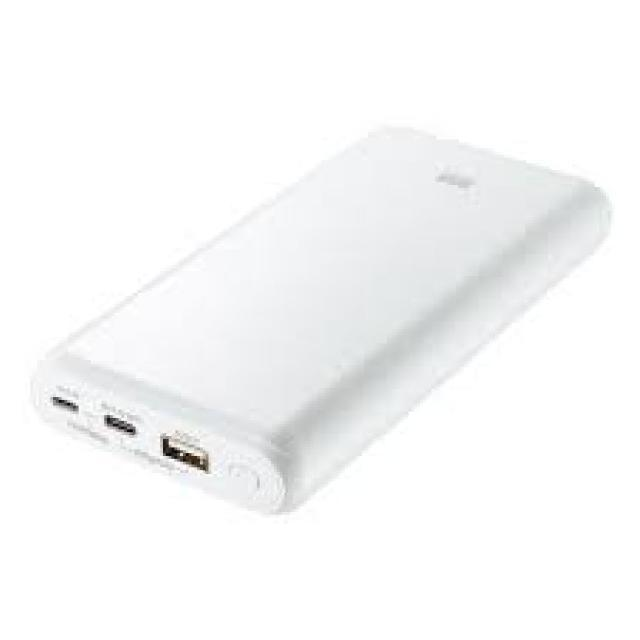Battery: (31, 124, 640, 520)
